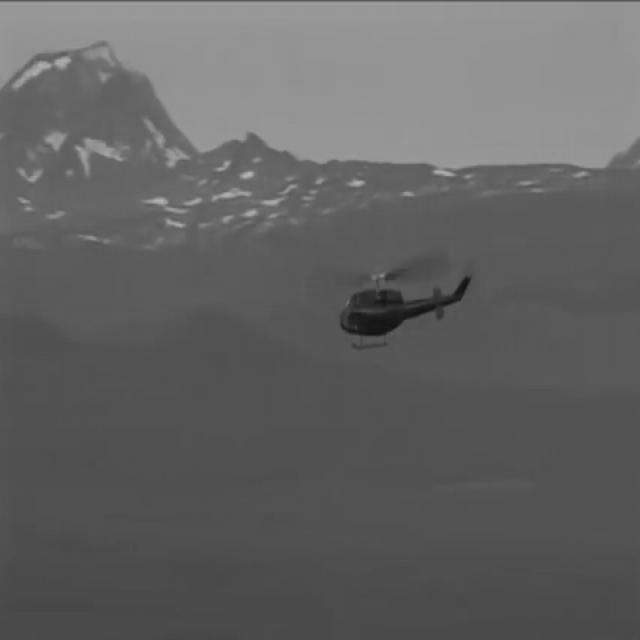helikopter: (319, 238, 494, 382)
